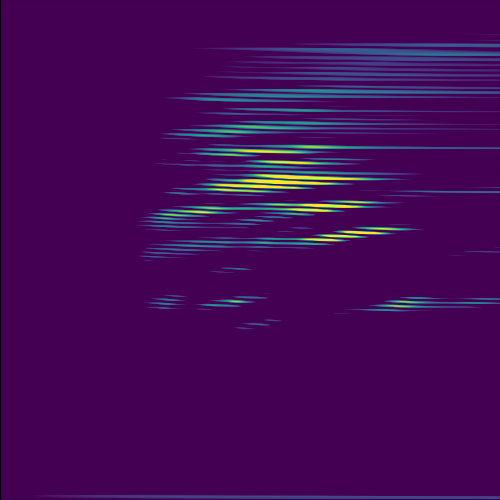semblance: (187, 172, 367, 195), (201, 141, 336, 167), (304, 220, 409, 247), (270, 196, 386, 216), (372, 286, 444, 316)
